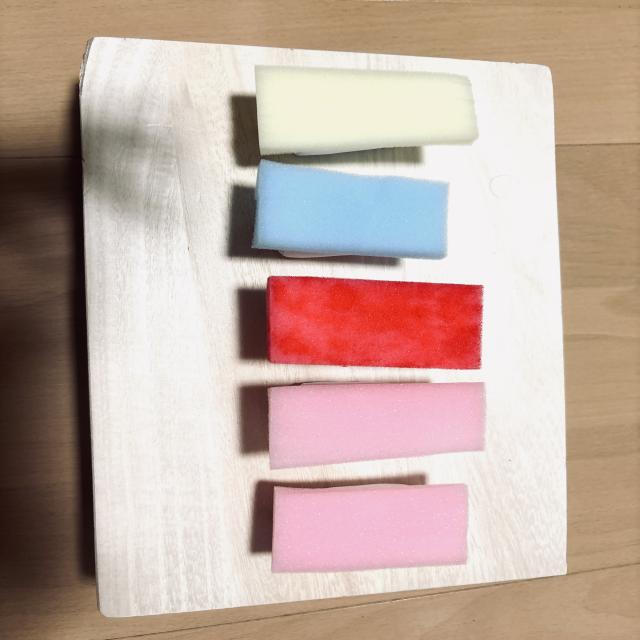ika: (252, 160, 449, 259)
maguro: (266, 276, 483, 369)
tai: (268, 382, 485, 469), (272, 484, 468, 573)
tamago: (255, 66, 478, 155)
